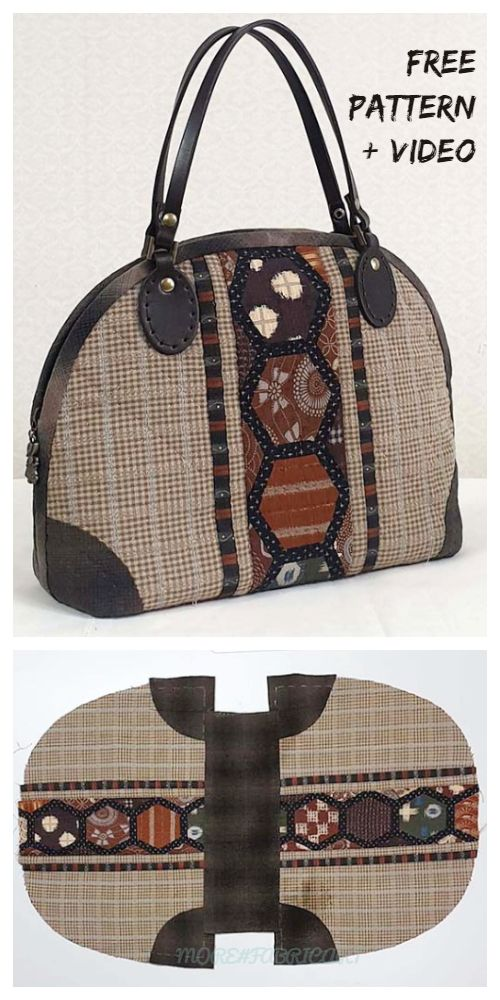cuero: (136, 19, 393, 357)
